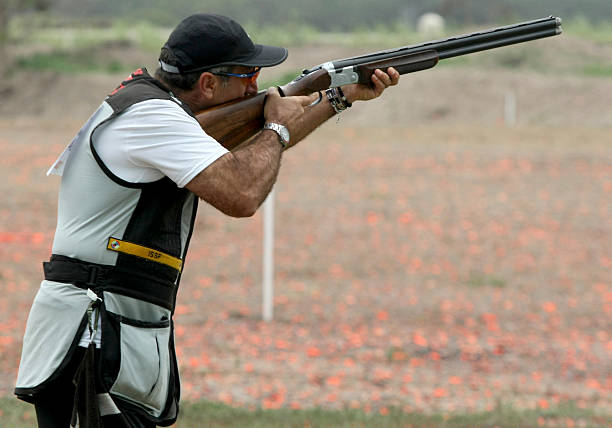shotgun: (200, 16, 562, 148)
